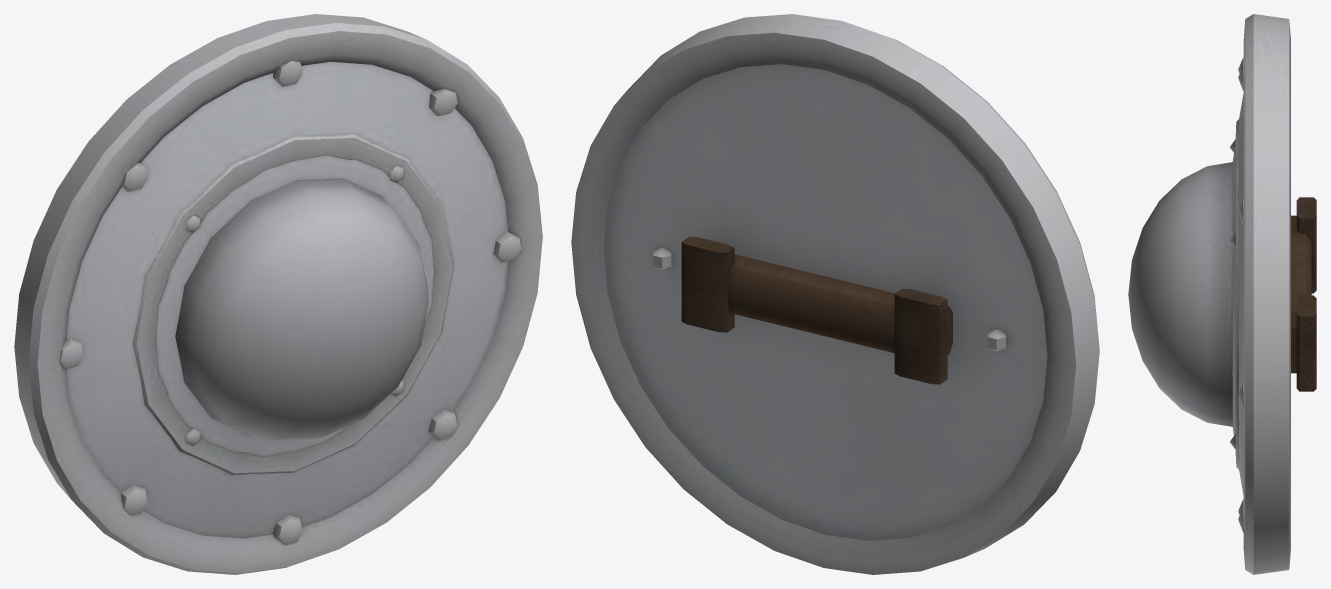
File: skold_bucklare.glb
3 renders of one model, left to right at view 1: azimuth 30°, elevation 25°; view 2: azimuth 150°, elevation 25°; view 3: azimuth 270°, elevation 25°, orthographic. The views are drawn at different scales.
Parts seen in each view (by area): view 1: SM_V_skold_bucklare, SM_V_skold_bucklare_Faste; view 2: SM_V_skold_bucklare, SM_V_skold_bucklare_Faste; view 3: SM_V_skold_bucklare, SM_V_skold_bucklare_Faste.
Part boxes in pixels (x1,y1,x2,y2): SM_V_skold_bucklare: (67, 61, 507, 538); SM_V_skold_bucklare_Faste: (14, 14, 542, 574); SM_V_skold_bucklare: (603, 64, 1047, 540); SM_V_skold_bucklare_Faste: (571, 14, 1099, 574); SM_V_skold_bucklare: (1128, 94, 1316, 494); SM_V_skold_bucklare_Faste: (1230, 14, 1290, 574).
Bounding box in the file's own units: 0.338 × 0.338 × 0.1134.
Materials: 1 (1 with a texture image).
